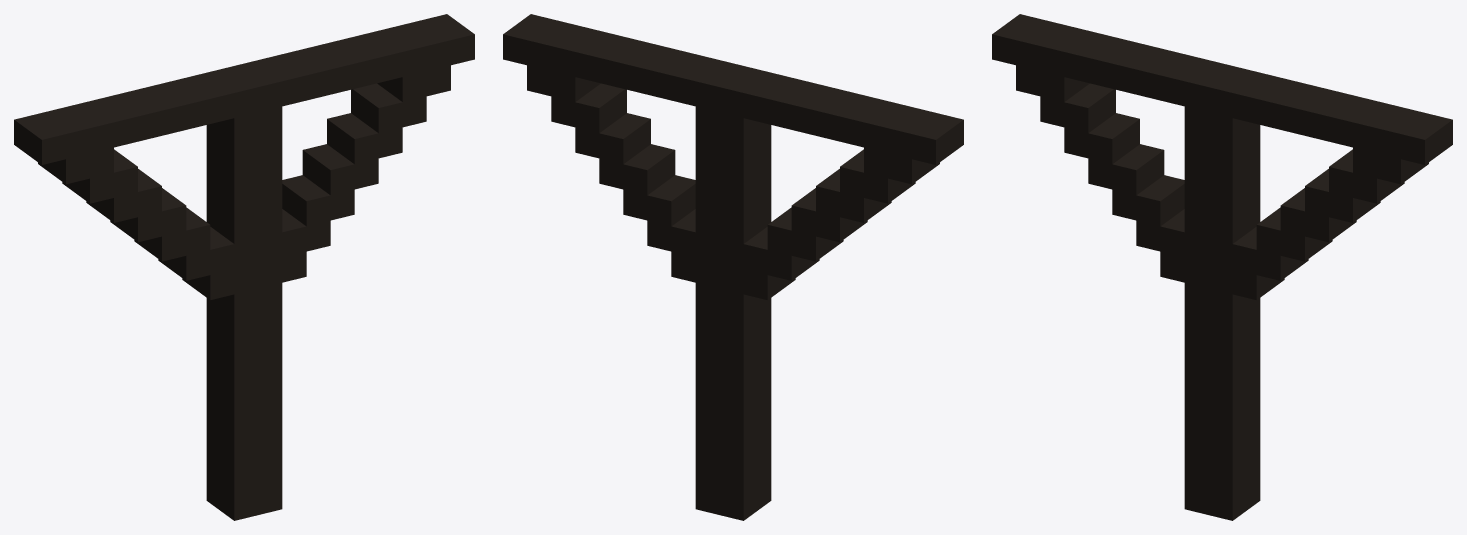
Rendered from tavern-51-pillar_wood4.obj.
3 views of the same model, side by side, from view 1: azimuth 30°, elevation 25°; view 2: azimuth 150°, elevation 25°; view 3: azimuth 330°, elevation 25° (orthographic).
Visible parts, largest first — view 1: pillar_wood4; view 2: pillar_wood4; view 3: pillar_wood4.
Part boxes in pixels (x1,y1,x2,y2): pillar_wood4: [14, 14, 474, 520]; pillar_wood4: [503, 14, 963, 520]; pillar_wood4: [992, 14, 1452, 520].
Bounding box in the file's own units: 1.8 × 1.7 × 0.2.
1 material, 1 textured.
